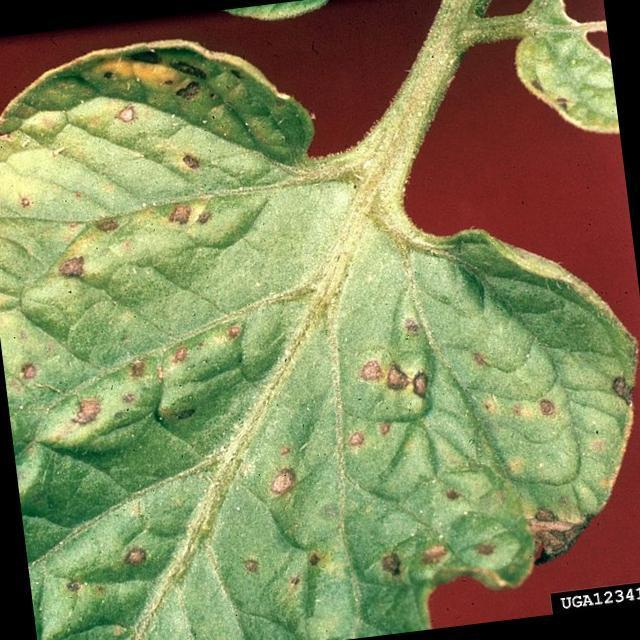Septoria: (0, 28, 589, 634)
